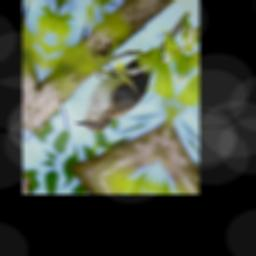Cuckoo: (74, 0, 193, 155)
